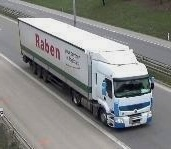truck: (18, 19, 157, 130)
